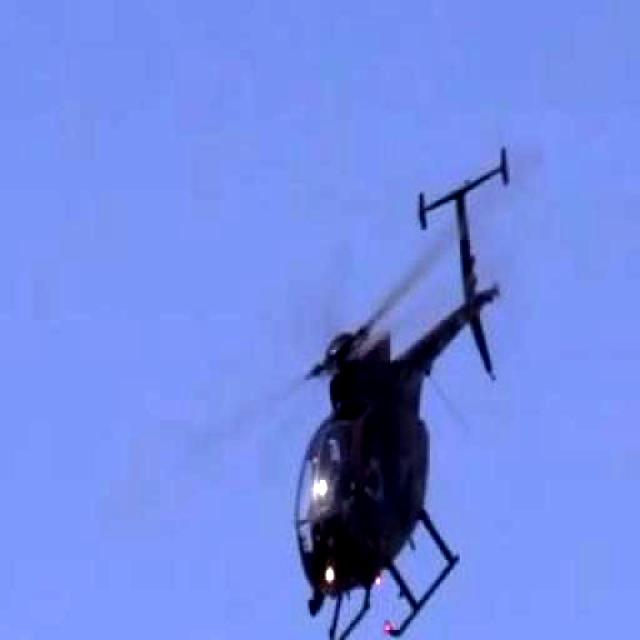drone: (166, 121, 618, 640)
